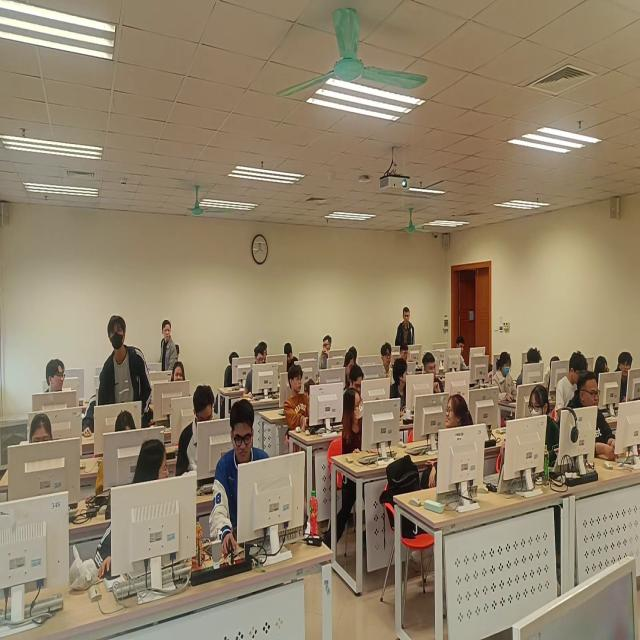raise_head: (286, 366, 317, 441), (162, 363, 195, 408), (617, 353, 640, 404), (380, 344, 395, 383)
stand: (99, 316, 153, 436), (156, 321, 179, 377), (396, 307, 416, 367)
using_computer: (217, 402, 285, 564), (566, 374, 626, 463), (338, 389, 390, 479), (177, 393, 225, 482), (98, 412, 142, 499), (22, 413, 65, 494), (491, 353, 528, 407), (425, 353, 458, 404), (247, 348, 274, 399), (223, 350, 252, 394), (594, 356, 618, 398), (456, 341, 480, 377), (347, 364, 368, 405), (281, 345, 297, 376)
